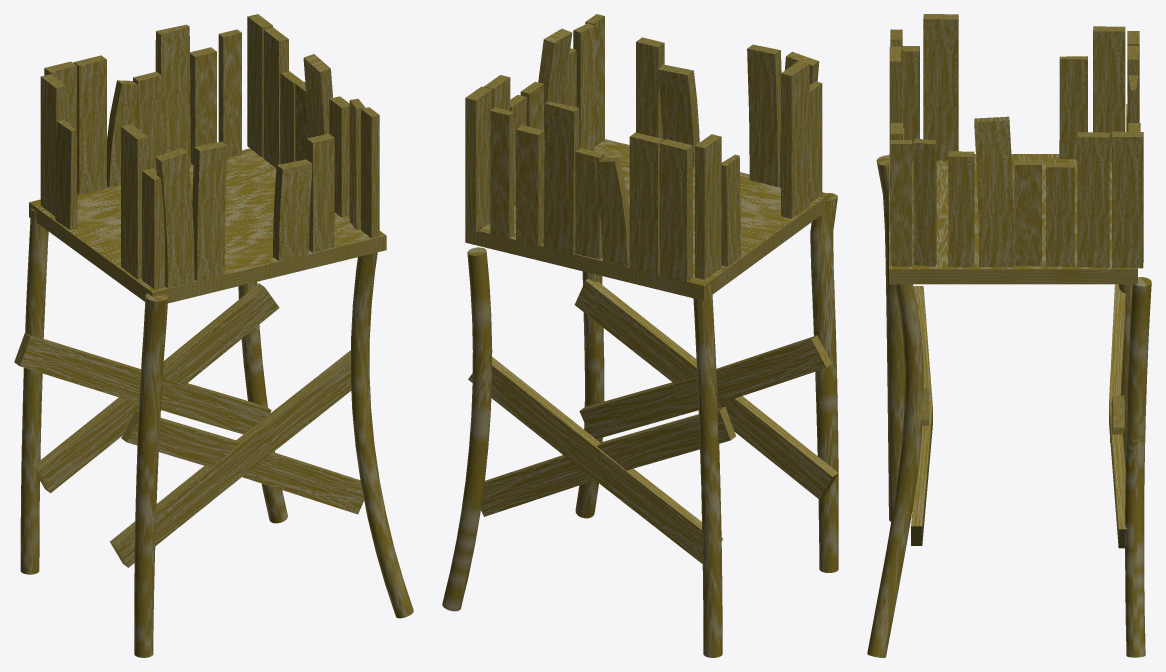
File: Tower1.FBX
The picture shows the model from 3 angles, left to right: view 1: azimuth 30°, elevation 25°; view 2: azimuth 150°, elevation 25°; view 3: azimuth 270°, elevation 25°; orthographic projection.
Visible parts, largest first — view 1: Box039; view 2: Box039; view 3: Box039.
Part boxes in pixels (box(x1,y1,x2,y2)): Box039: box(14, 14, 413, 657); Box039: box(442, 14, 838, 657); Box039: box(867, 14, 1151, 657).
Bounding box in the file's own units: 42.29 × 75.29 × 36.95.
